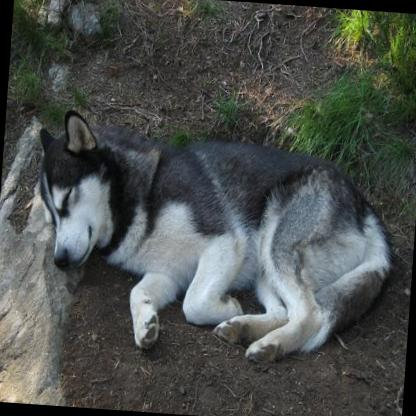malamute: (22, 102, 402, 378)
